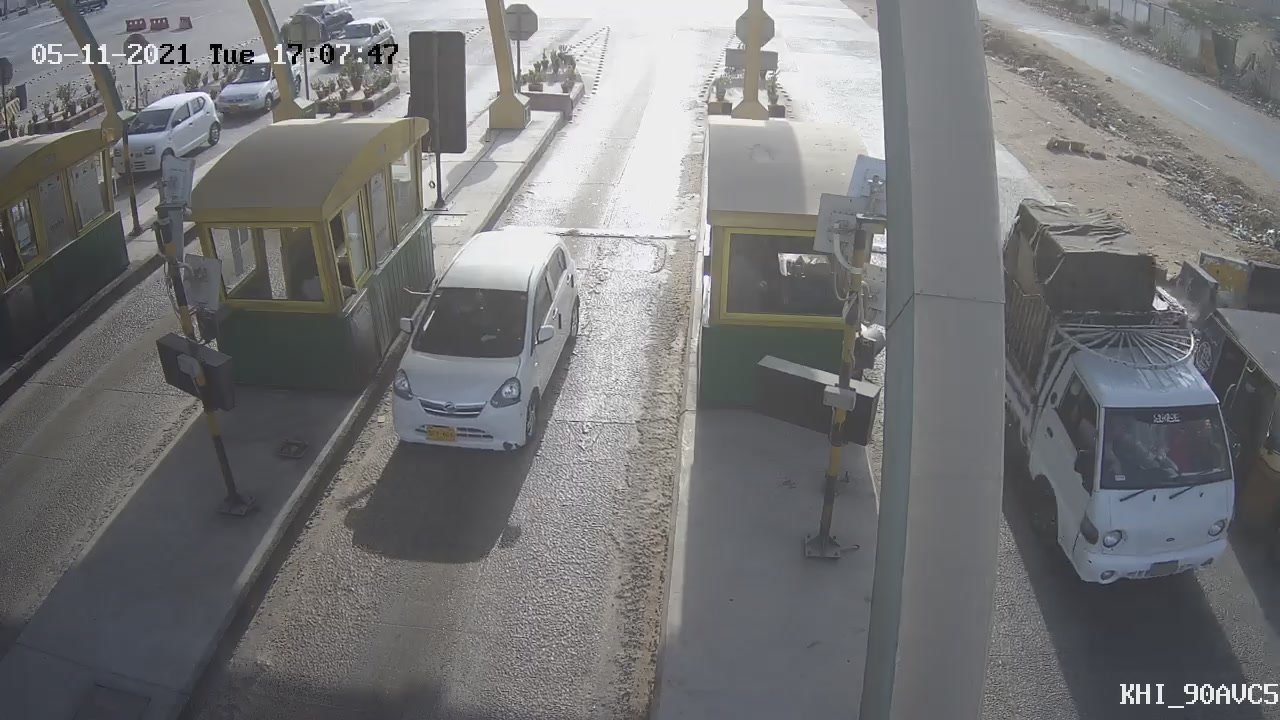F1: (364, 208, 603, 473)
